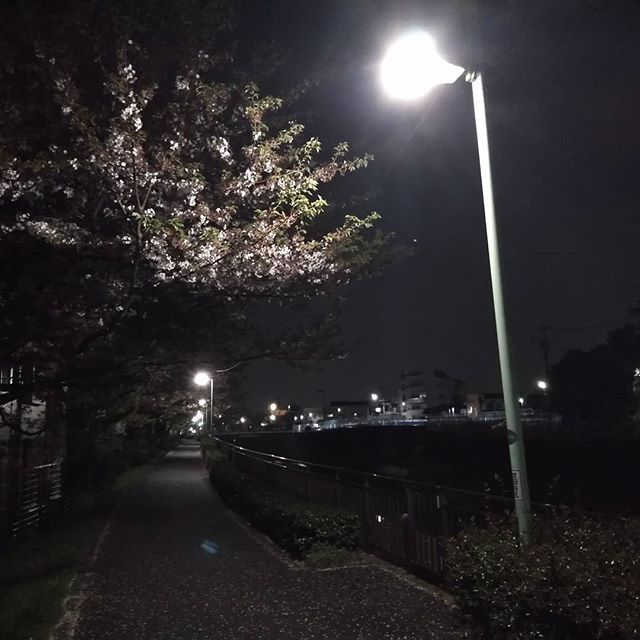light pole: (369, 27, 541, 583)
sky: (321, 1, 640, 383)
tree: (1, 33, 359, 458)
